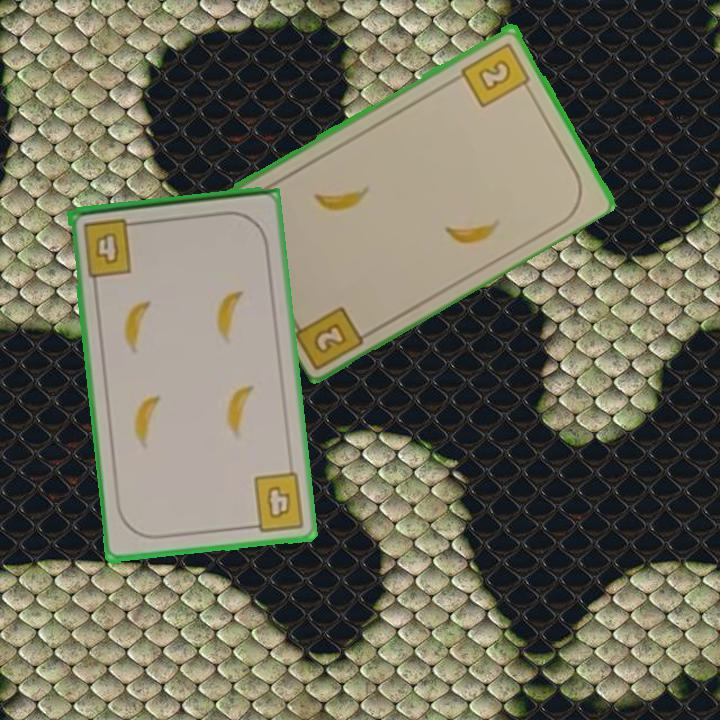2b: (458, 38, 534, 110), (309, 318, 350, 357)
4b: (243, 469, 308, 534), (80, 214, 143, 280)
